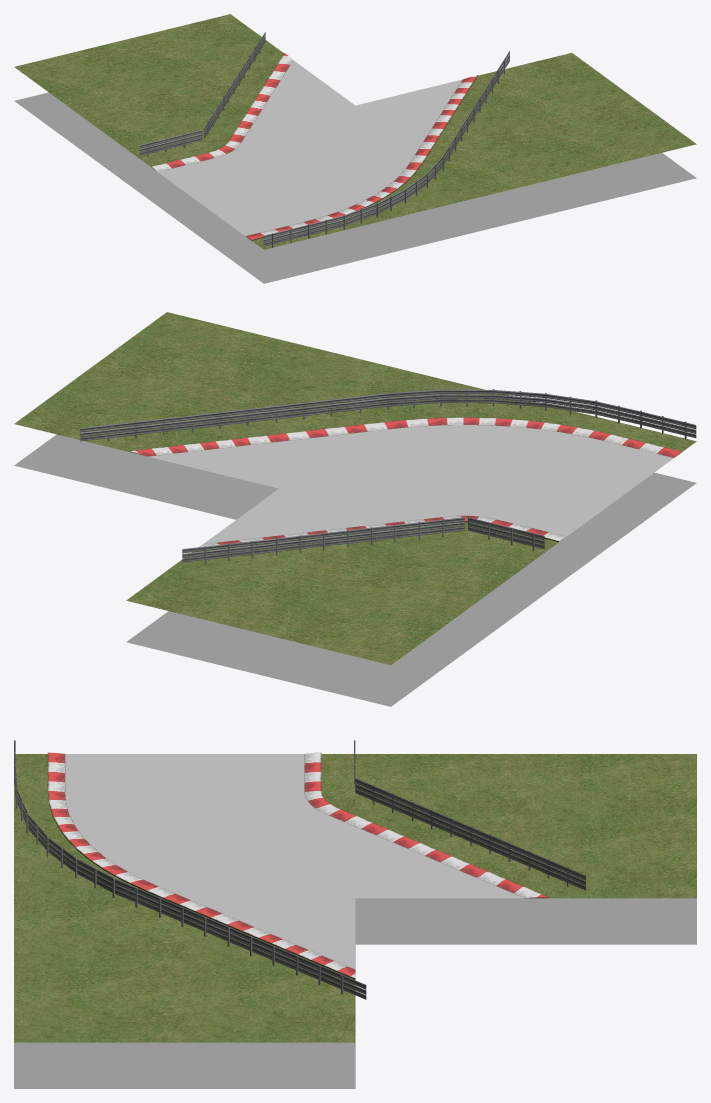
The model's file is Track_Curve_To_45Degree_Flipped_Mobile.fbx.
The picture shows the model from 3 angles, top to bottom: view 1: azimuth 30°, elevation 25°; view 2: azimuth 150°, elevation 25°; view 3: azimuth 270°, elevation 25°; orthographic projection. The views are drawn at different scales.
Visible parts, largest first — view 1: Grass, Road, Snap_Plane_Invisible_01, Snap_Plane_Invisible_02, Snap_Plane_Invisible_03, Rail_B, Curb_B, Curb_A, Rail_A; view 2: Grass, Road, Snap_Plane_Invisible_03, Snap_Plane_Invisible_02, Rail_B, Snap_Plane_Invisible_01, Rail_A, Curb_B, Curb_A; view 3: Grass, Road, Snap_Plane_Invisible_02, Snap_Plane_Invisible_03, Rail_B, Curb_B, Rail_A, Curb_A.
Part boxes in pixels (x1,y1,x2,y2): Grass: (14,14,696,249); Road: (158,60,462,235); Snap_Plane_Invisible_01: (139,184,479,283); Snap_Plane_Invisible_02: (446,153,696,230); Snap_Plane_Invisible_03: (14,92,173,192); Rail_B: (263,51,509,247); Curb_B: (245,75,478,240); Curb_A: (151,53,293,171); Rail_A: (139,32,265,156); Grass: (14,312,696,665); Road: (148,425,673,543); Snap_Plane_Invisible_03: (126,584,543,706); Snap_Plane_Invisible_02: (14,434,278,519); Rail_B: (80,388,696,441); Snap_Plane_Invisible_01: (501,472,696,594); Rail_A: (182,517,544,563); Curb_B: (128,417,681,457); Curb_A: (198,515,566,547); Grass: (14,754,696,1042); Road: (65,754,523,969); Snap_Plane_Invisible_02: (14,945,355,1088); Snap_Plane_Invisible_03: (355,898,696,944); Rail_B: (14,740,366,999); Curb_B: (47,752,355,979); Rail_A: (354,740,585,890); Curb_A: (304,752,549,898).
Size of the model in its own units: 40 by 4.24 by 40.
